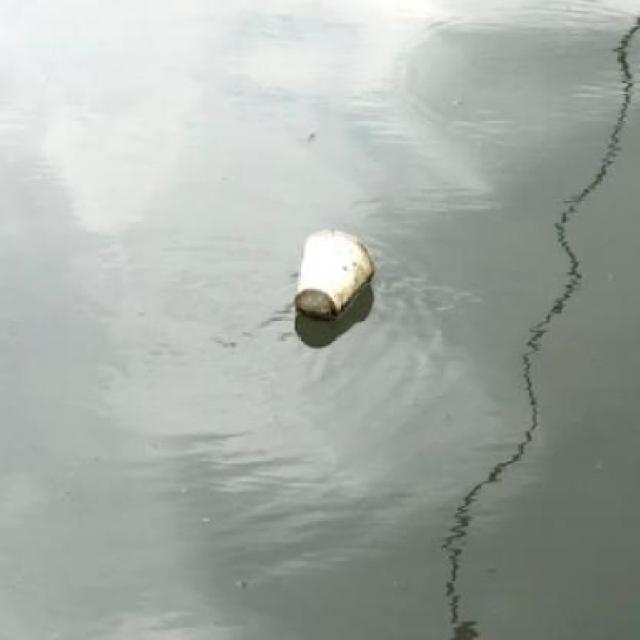Plastic cup: (290, 224, 376, 324)
